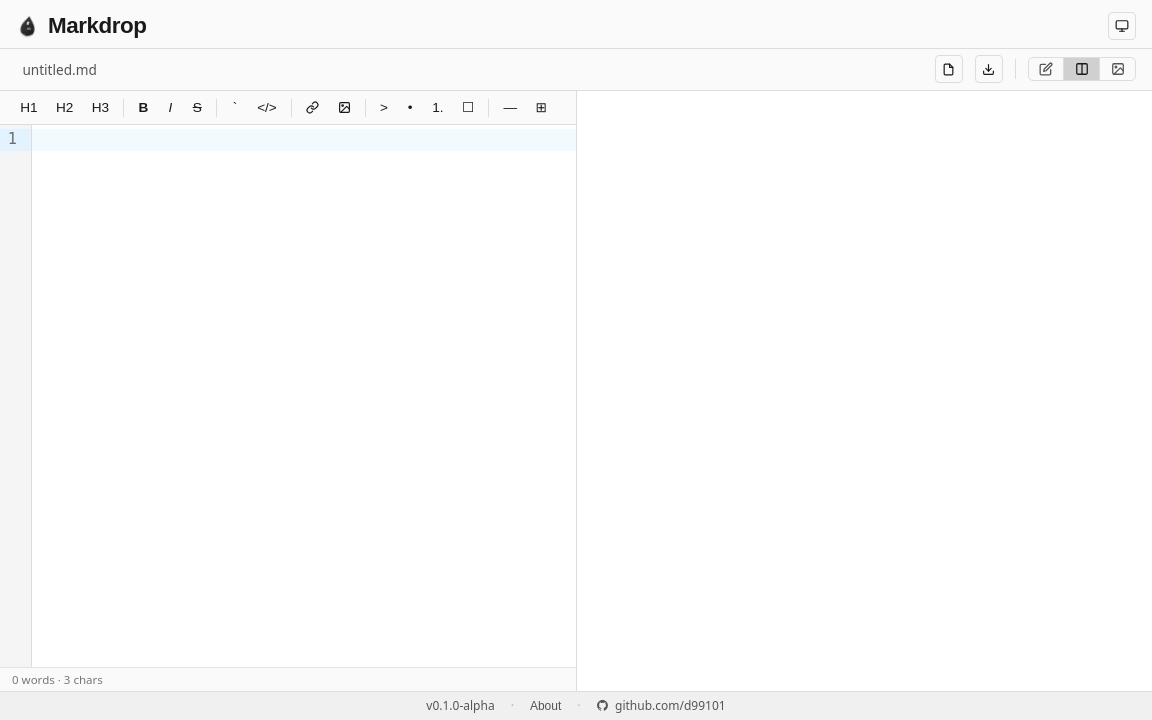
App › shows nothing-to-download toast when content is empty and download clicked
Click the button titled "download". click: [989, 69]
box: [975,55,1003,83]
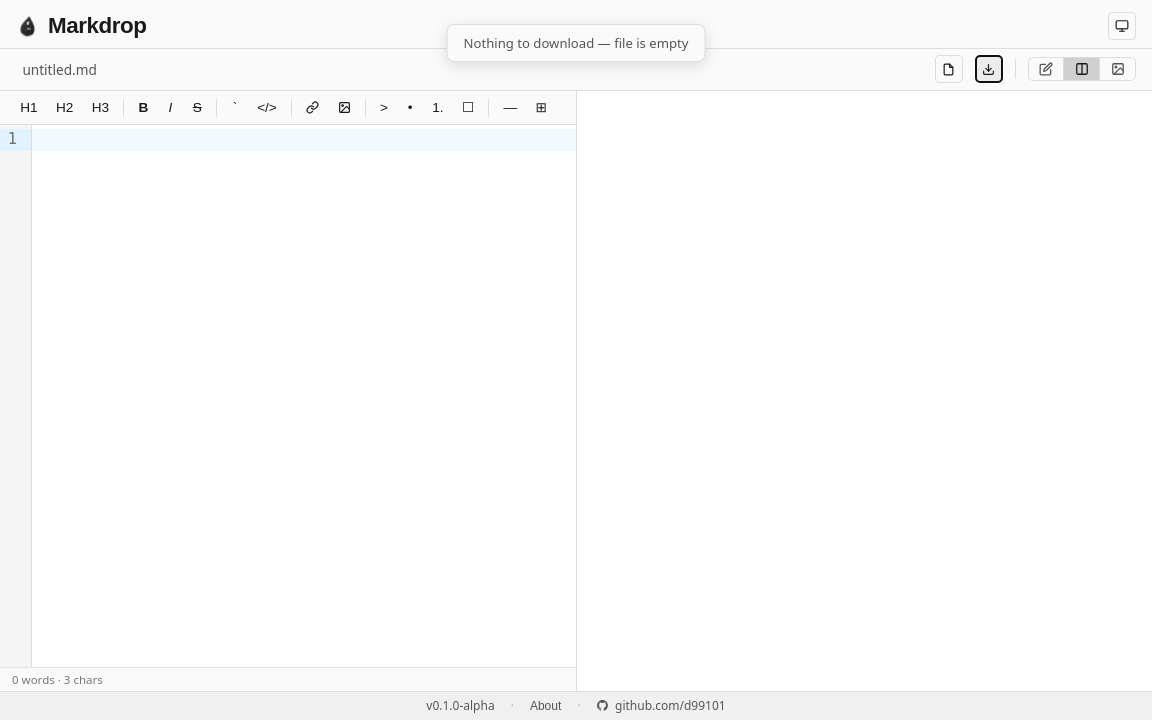
Result: the text "Nothing to download — file is empty" is shown at [447,24,705,62]
